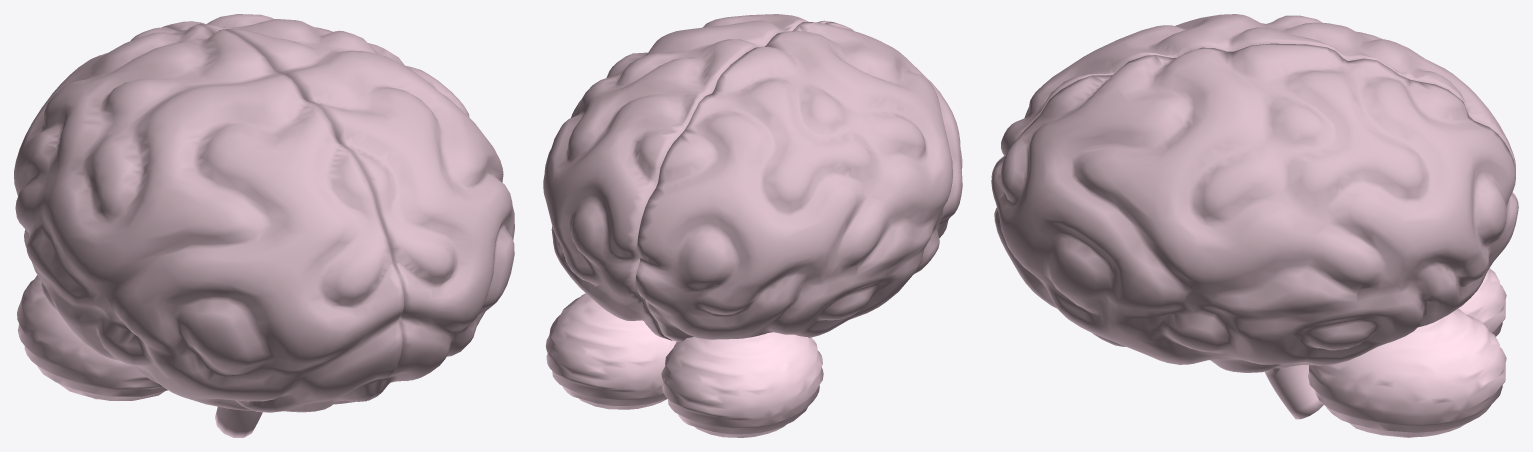
Rendered from brain-anatomy.glb.
3 renders of one model, left to right at view 1: azimuth 30°, elevation 25°; view 2: azimuth 150°, elevation 25°; view 3: azimuth 270°, elevation 25°, orthographic. The views are drawn at different scales.
Parts seen in each view (by area): view 1: Left cerebral hemisphere with sculpted gyri, Right cerebral hemisphere with sculpted gyri, Left cerebellar hemisphere with folia, Pons and medulla brainstem; view 2: Left cerebral hemisphere with sculpted gyri, Right cerebral hemisphere with sculpted gyri, Left cerebellar hemisphere with folia, Right cerebellar hemisphere with folia; view 3: Right cerebral hemisphere with sculpted gyri, Right cerebellar hemisphere with folia, Left cerebral hemisphere with sculpted gyri, Pons and medulla brainstem, Left cerebellar hemisphere with folia.
Boxes of the visible parts, x1,y1,x2,y2 form: Left cerebral hemisphere with sculpted gyri: [14, 24, 403, 412]; Right cerebral hemisphere with sculpted gyri: [162, 14, 514, 404]; Left cerebellar hemisphere with folia: [17, 275, 167, 400]; Pons and medulla brainstem: [215, 406, 262, 437]; Left cerebral hemisphere with sculpted gyri: [636, 22, 962, 341]; Right cerebral hemisphere with sculpted gyri: [543, 14, 831, 340]; Left cerebellar hemisphere with folia: [661, 332, 823, 437]; Right cerebellar hemisphere with folia: [545, 293, 676, 409]; Right cerebral hemisphere with sculpted gyri: [991, 43, 1518, 372]; Right cerebellar hemisphere with folia: [1308, 308, 1506, 437]; Left cerebral hemisphere with sculpted gyri: [991, 14, 1518, 214]; Pons and medulla brainstem: [1264, 365, 1323, 419]; Left cerebellar hemisphere with folia: [1458, 268, 1506, 336].
Size of the model in its own units: 0.1367 by 0.1276 by 0.1627.
